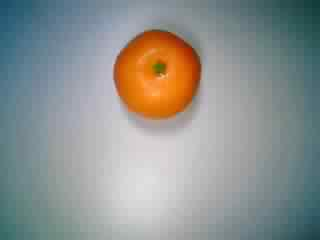orange: (107, 24, 206, 121)
